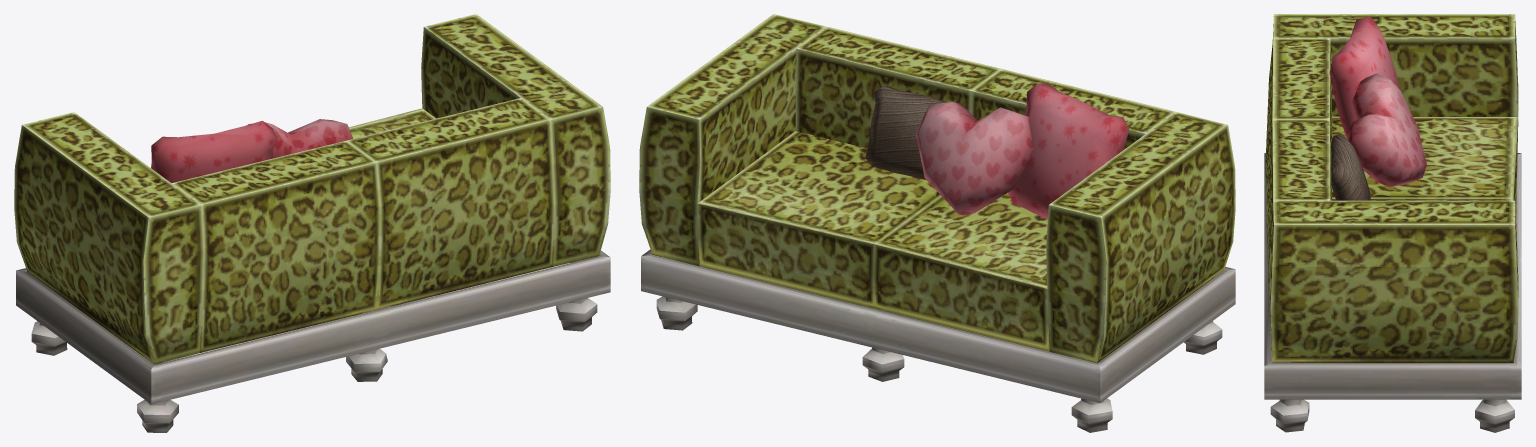
The model's file is furni_0200099_01.FBX.
3 renders of one model, left to right at view 1: azimuth 30°, elevation 25°; view 2: azimuth 150°, elevation 25°; view 3: azimuth 270°, elevation 25°, orthographic. The views are drawn at different scales.
Parts seen in each view (by area): view 1: furni_0200099_01; view 2: furni_0200099_01; view 3: furni_0200099_01.
Boxes of the visible parts, <box> form: furni_0200099_01: <box>14,14,610,432</box>; furni_0200099_01: <box>639,14,1235,432</box>; furni_0200099_01: <box>1264,14,1521,432</box>.
Size of the model in its own units: 159 by 82.48 by 80.
1 material, 1 textured.
